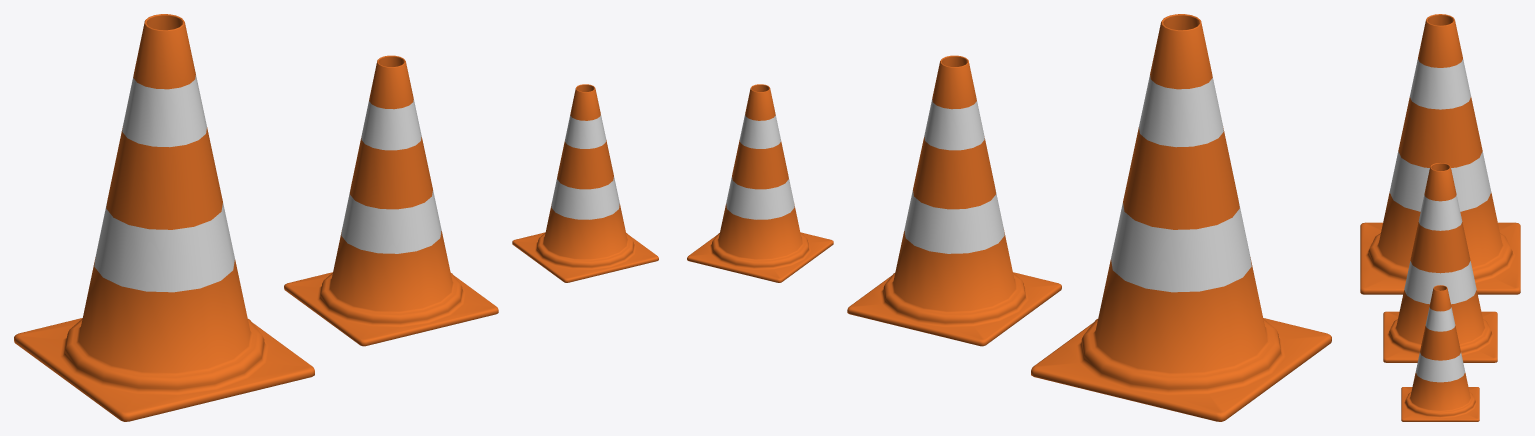
The picture shows the model from 3 angles, left to right: view 1: azimuth 30°, elevation 25°; view 2: azimuth 150°, elevation 25°; view 3: azimuth 270°, elevation 25°; orthographic projection. The views are drawn at different scales.
Visible parts, largest first — view 1: Traffic_cone_L, Traffic_cone_M, Traffic_cone_S; view 2: Traffic_cone_L, Traffic_cone_M, Traffic_cone_S; view 3: Traffic_cone_L, Traffic_cone_M, Traffic_cone_S.
Boxes of the visible parts, box(x1,y1,x2,y2) form: Traffic_cone_L: box(14, 14, 314, 421); Traffic_cone_M: box(284, 55, 498, 346); Traffic_cone_S: box(512, 84, 658, 282); Traffic_cone_L: box(1031, 14, 1331, 421); Traffic_cone_M: box(847, 55, 1061, 346); Traffic_cone_S: box(687, 84, 833, 282); Traffic_cone_L: box(1360, 14, 1520, 294); Traffic_cone_M: box(1383, 162, 1497, 362); Traffic_cone_S: box(1401, 285, 1479, 421).
Bounding box in the file's own units: 5.83 × 3.31 × 2.
